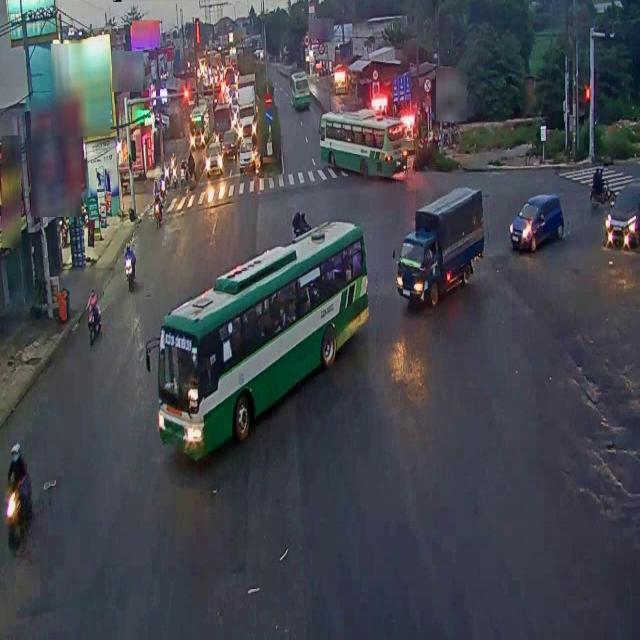bus: (156, 243, 368, 455), (312, 110, 413, 184)
motorcycle: (4, 434, 36, 573), (289, 195, 309, 253), (88, 286, 104, 340), (125, 240, 137, 288)
truck: (398, 191, 482, 301)
